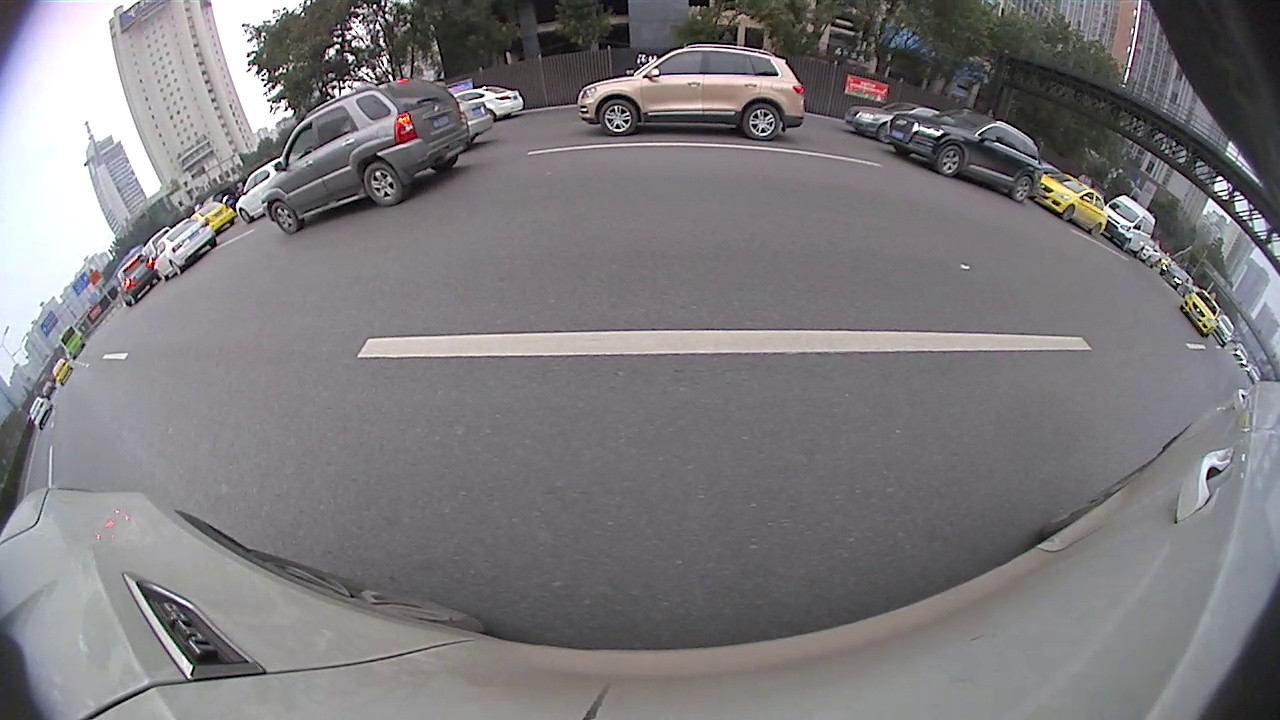car: (259, 78, 472, 236), (577, 42, 806, 142), (887, 110, 1040, 204), (844, 101, 962, 146), (236, 157, 307, 226), (1035, 173, 1108, 238), (153, 217, 219, 281), (1102, 194, 1156, 259), (443, 85, 525, 124), (111, 252, 163, 308), (1179, 288, 1220, 338), (190, 200, 239, 238)
front: (600, 101, 639, 134), (270, 204, 299, 233), (940, 148, 961, 176), (880, 125, 890, 141), (1065, 207, 1076, 220), (239, 209, 249, 222)
rear: (365, 165, 404, 205), (742, 106, 779, 139), (1013, 178, 1033, 199), (1091, 224, 1101, 235)
